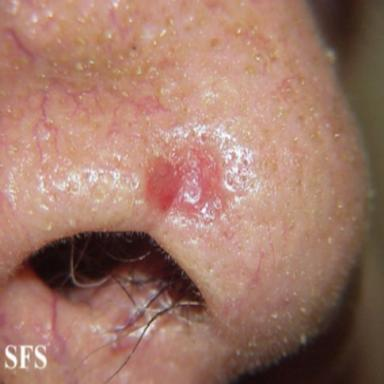basal-cell-carcinoma: (146, 148, 223, 223)
